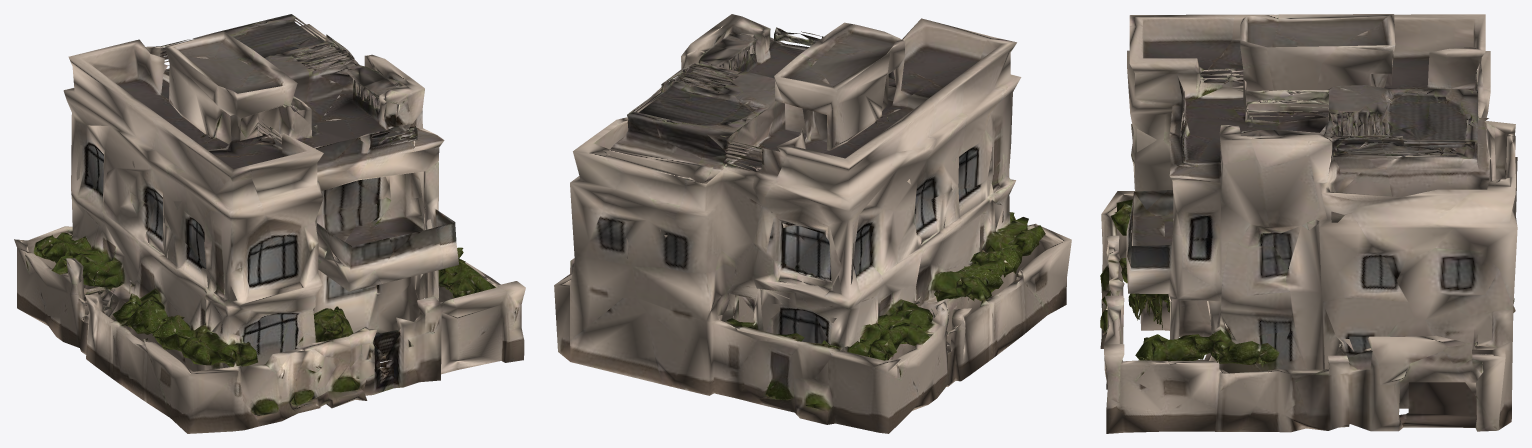
The model's file is building.glb.
3 renders of one model, left to right at view 1: azimuth 30°, elevation 25°; view 2: azimuth 150°, elevation 25°; view 3: azimuth 270°, elevation 25°, orthographic. The views are drawn at different scales.
Size of the model in its own units: 1.88 by 1.49 by 1.87.
1 material, 1 textured.
